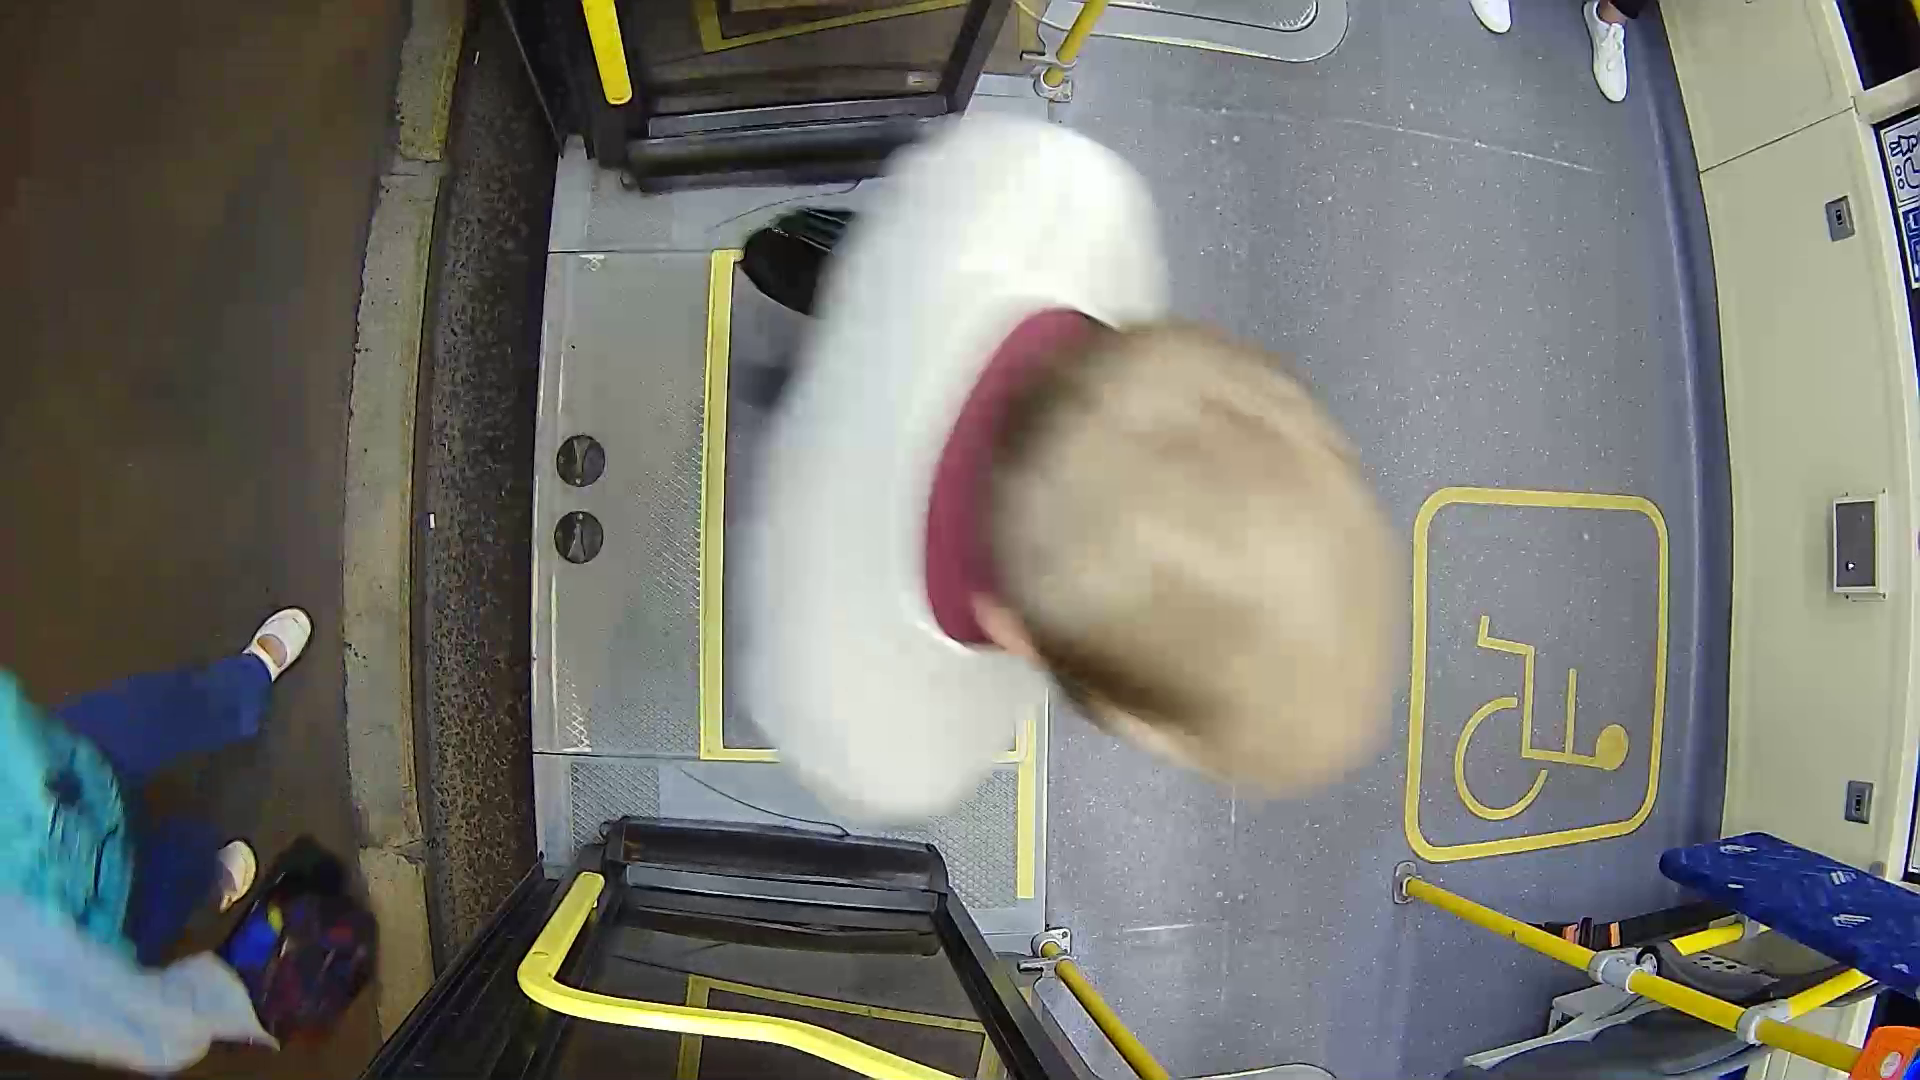person: (670, 124, 1459, 859)
